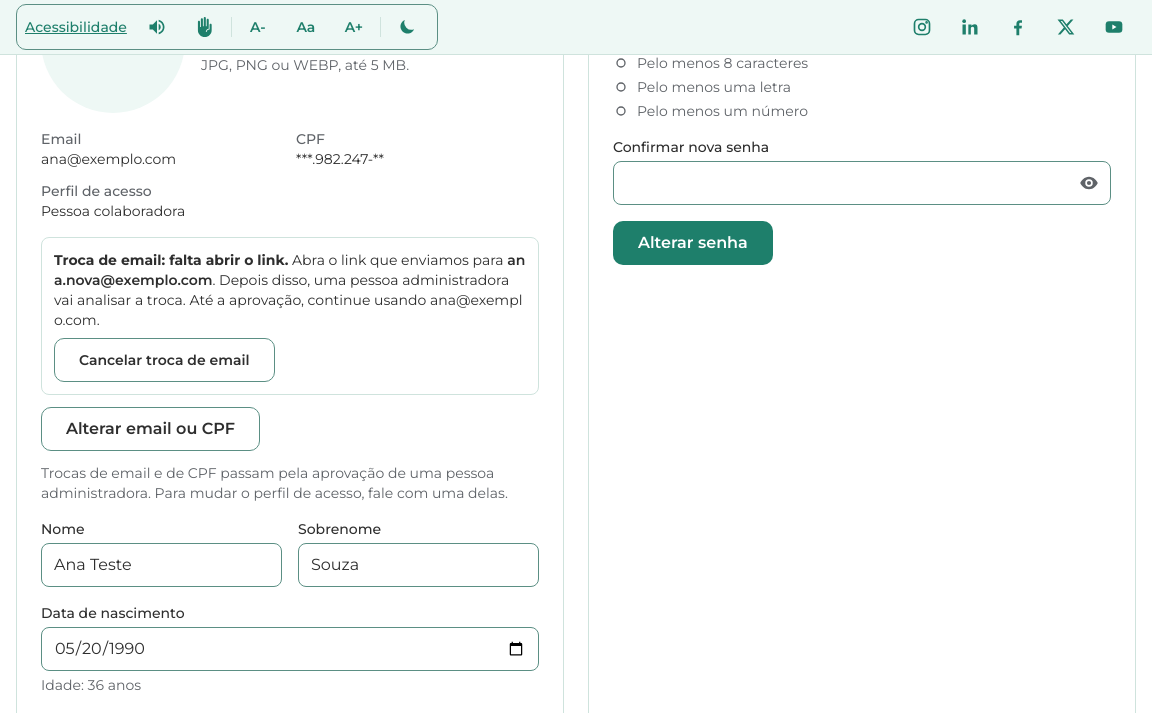
Meu perfil: alterar email ou CPF › cancela a troca de email
The image size is (1152, 713).
(page scrolled)
Click the button "Cancelar troca de email" at (164, 360), box [54, 338, 274, 382]
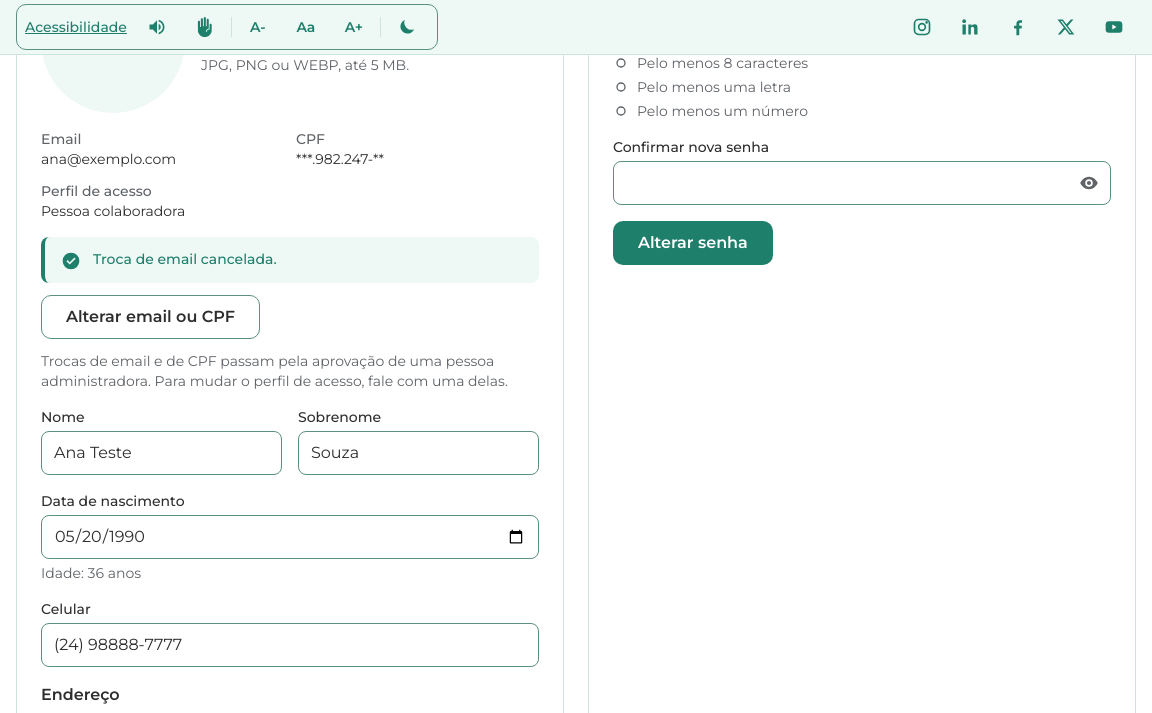
Check: the text "Troca de email cancelada." is shown, box [93, 249, 277, 269]
Check: the text "Troca de email: falta abrir o link." is gone
